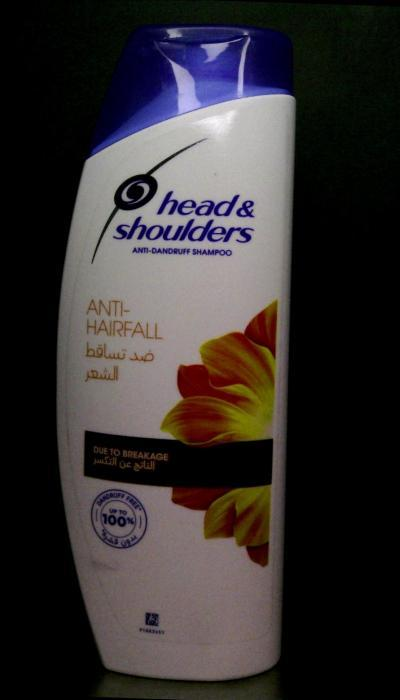tear_unacc: (80, 543, 120, 585)
